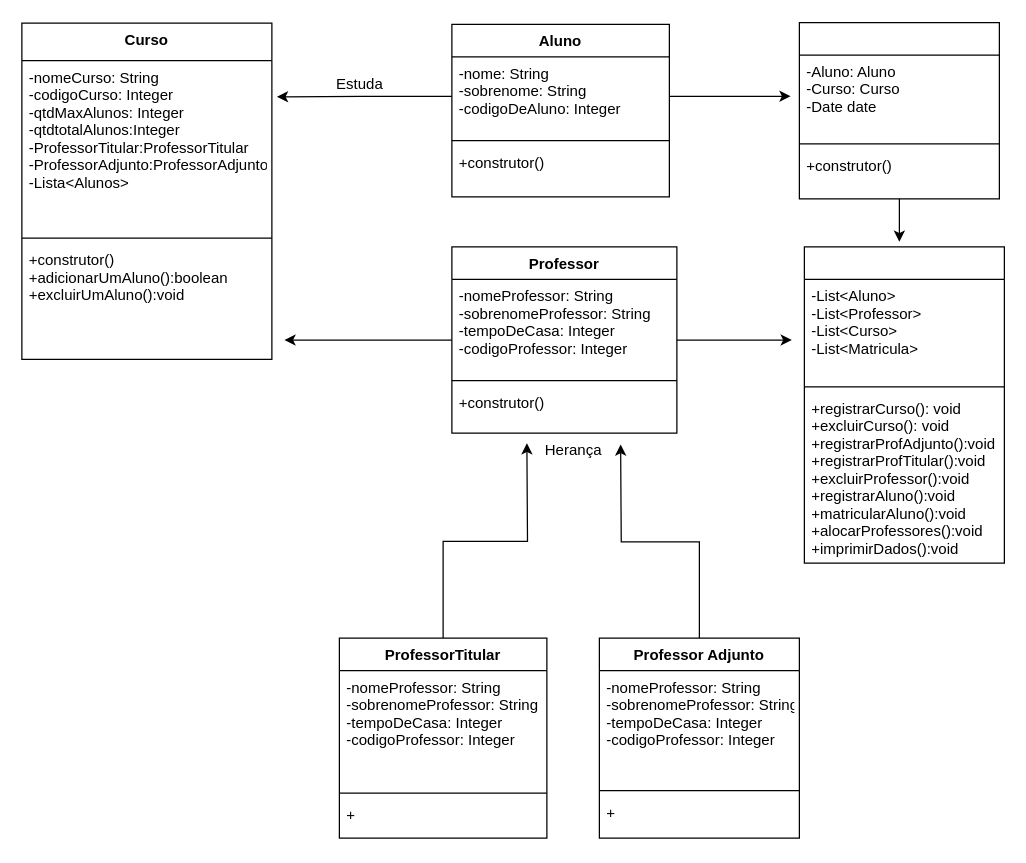
Image size: 1026x863. Some labels were removed from this diagram. The shapes that lost their labels are listed below. From the top down, each one's box as (x1, y1, x2, y2) in pixels, then its label:
(798, 21, 999, 199): Matricula
(803, 246, 1004, 563): DigitalHouseManager
